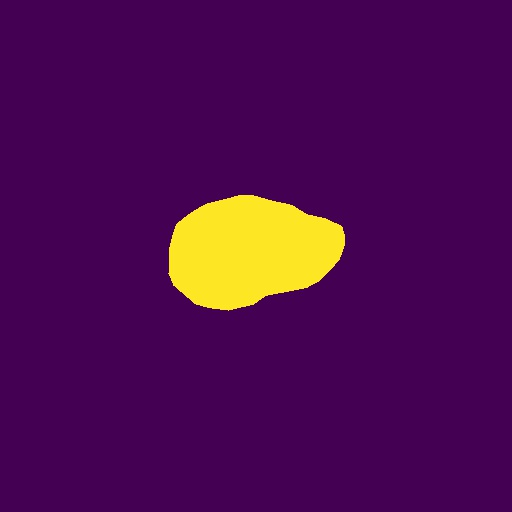Gliomia_tumour: (168, 195, 345, 311)
